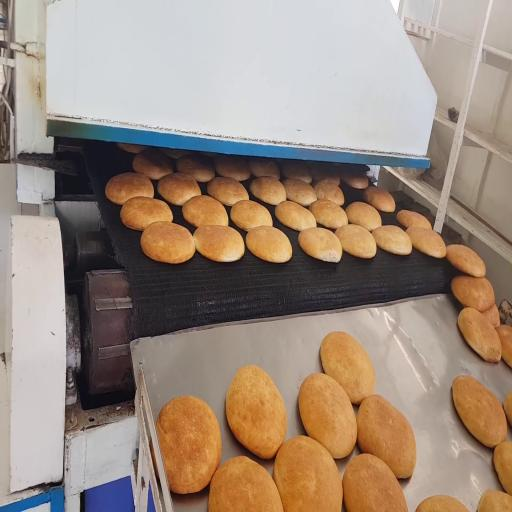bread: (157, 396, 221, 493), (226, 366, 286, 459), (273, 436, 342, 511), (357, 395, 416, 478), (299, 374, 357, 458), (208, 457, 283, 511), (452, 375, 507, 447), (320, 332, 375, 404), (343, 454, 407, 511), (458, 308, 501, 362), (141, 222, 195, 263), (194, 226, 244, 262), (120, 197, 173, 230), (246, 226, 292, 263), (451, 276, 495, 312), (106, 173, 154, 205), (299, 228, 342, 263), (183, 196, 228, 227), (158, 173, 201, 205), (335, 225, 376, 258), (133, 148, 173, 180), (230, 201, 272, 231), (406, 227, 446, 258), (275, 201, 316, 231), (207, 177, 249, 206), (447, 245, 485, 277), (372, 225, 412, 255), (309, 199, 347, 229), (176, 154, 214, 182), (346, 202, 381, 231), (250, 177, 286, 205), (283, 179, 317, 206), (494, 441, 511, 494), (215, 156, 250, 181), (416, 495, 468, 511), (314, 179, 344, 206), (364, 187, 395, 212), (477, 490, 511, 511), (282, 161, 312, 183), (249, 158, 280, 179), (397, 210, 431, 229), (311, 163, 340, 185), (496, 325, 511, 367), (340, 172, 368, 189), (483, 304, 500, 327), (160, 148, 191, 159), (117, 143, 146, 154), (503, 392, 511, 424)
